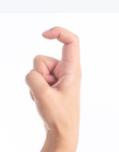anticlockwise: (24, 24, 83, 124)
